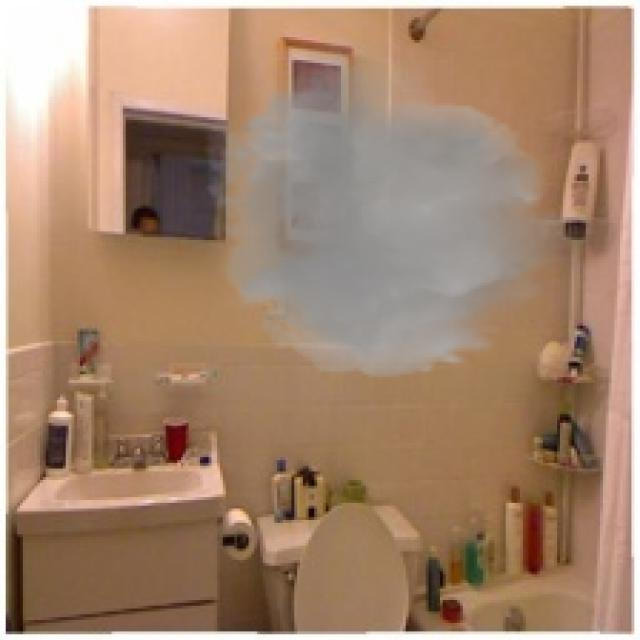Smoke: (188, 34, 594, 386)
